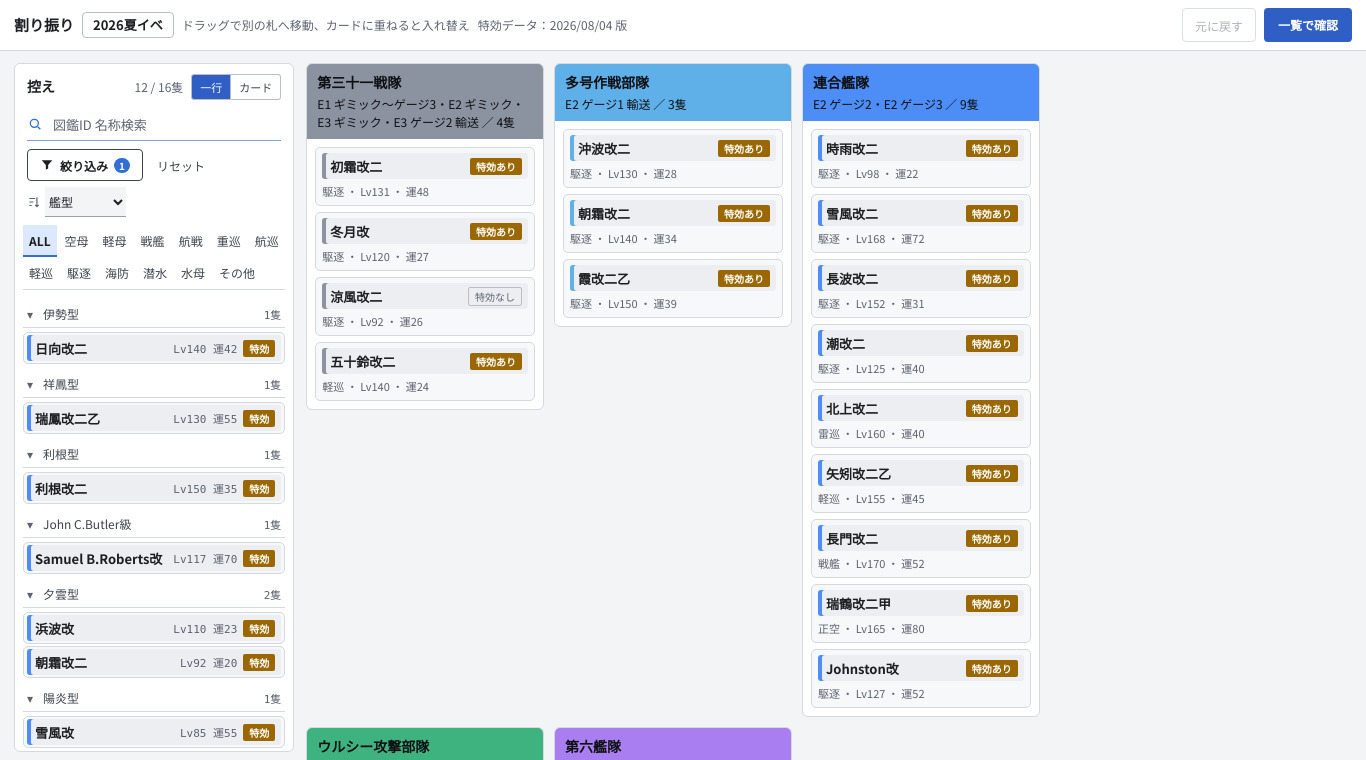
Test case: 割り振り画面：特効の行の国籍・艦種の内訳（v1.1「割り振りの特効の行に国籍・艦種の内訳を出す」） › 連合艦隊に置いた米駆逐艦を選ぶと、札の列の開いたカードにも内訳を出す
Click the button "Johnston改 特効あり 駆逐 ・ Lv127 ・ 運52": [921, 678] box [811,649,1031,708]
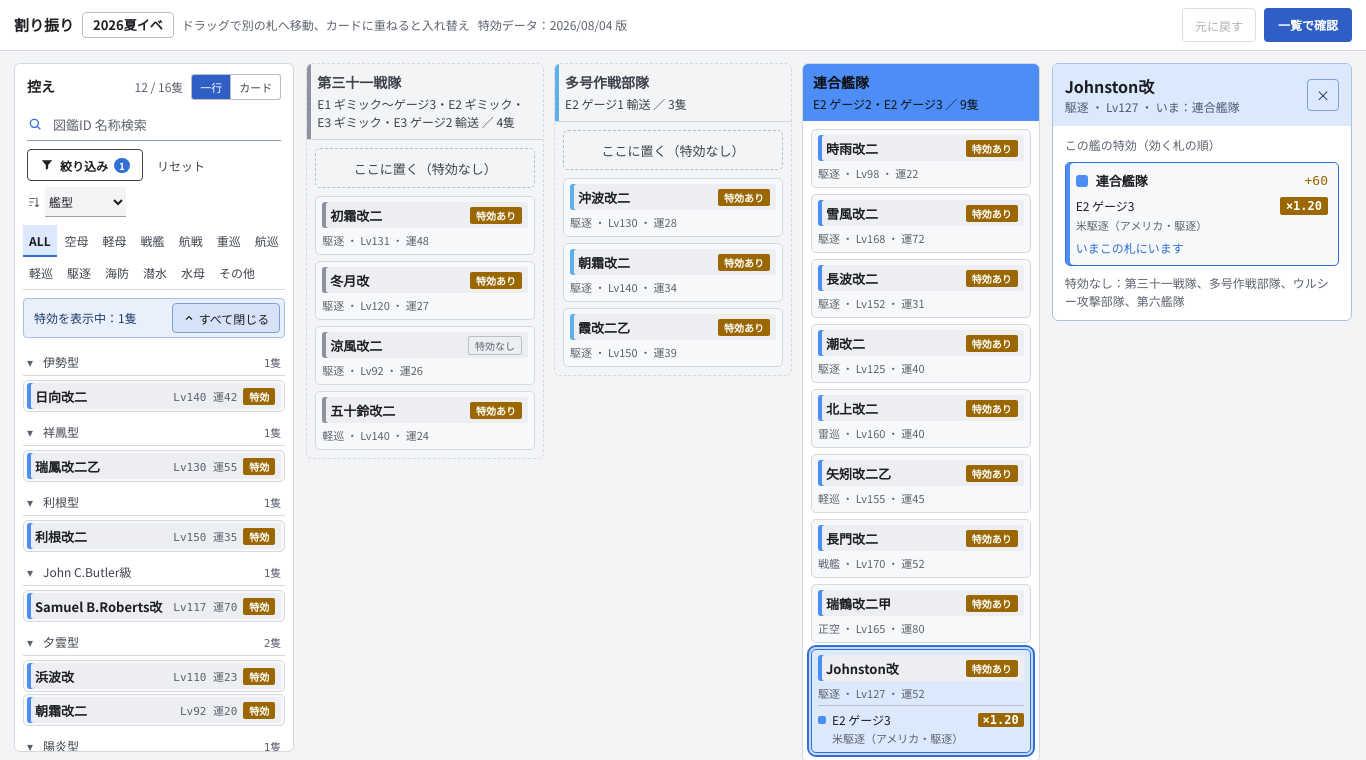
Check: the button "Johnston改" is expanded, box [811,649,1031,753]
Check: the button "Johnston改" reads "Johnston改 特効あり 駆逐 ・ Lv127 ・ 運52 E2 ゲージ3 米駆逐（アメリカ・駆逐） ×1.20", box [811,649,1031,753]
